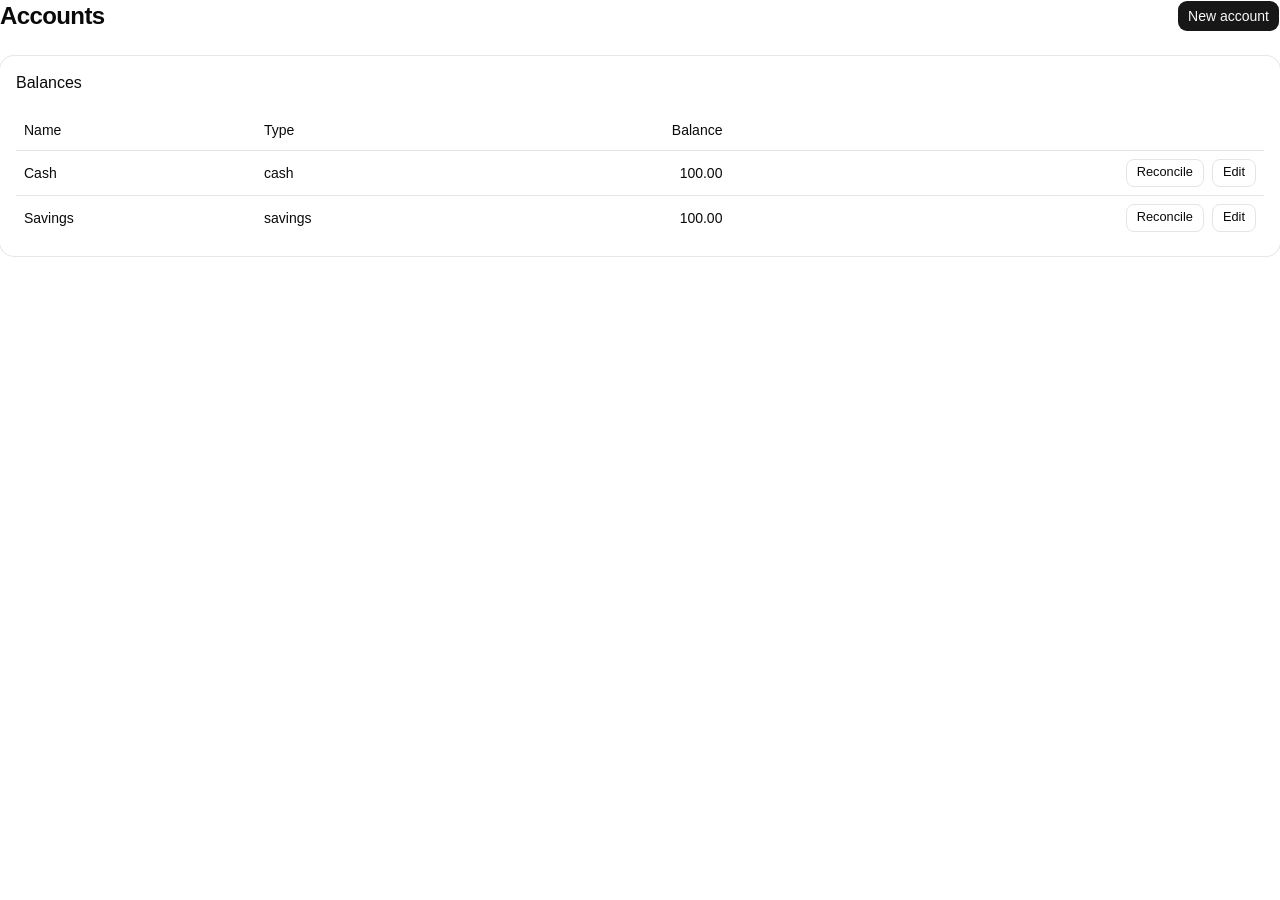
Test case: ReconcileDialog › books a transaction when actual balance differs
The width and height of the screenshot is (1280, 900).
Check: the text "Cash" is shown, box [16,150,256,195]
Click the 1st button "Reconcile" at [1165, 172], box [1126,158,1204,186]
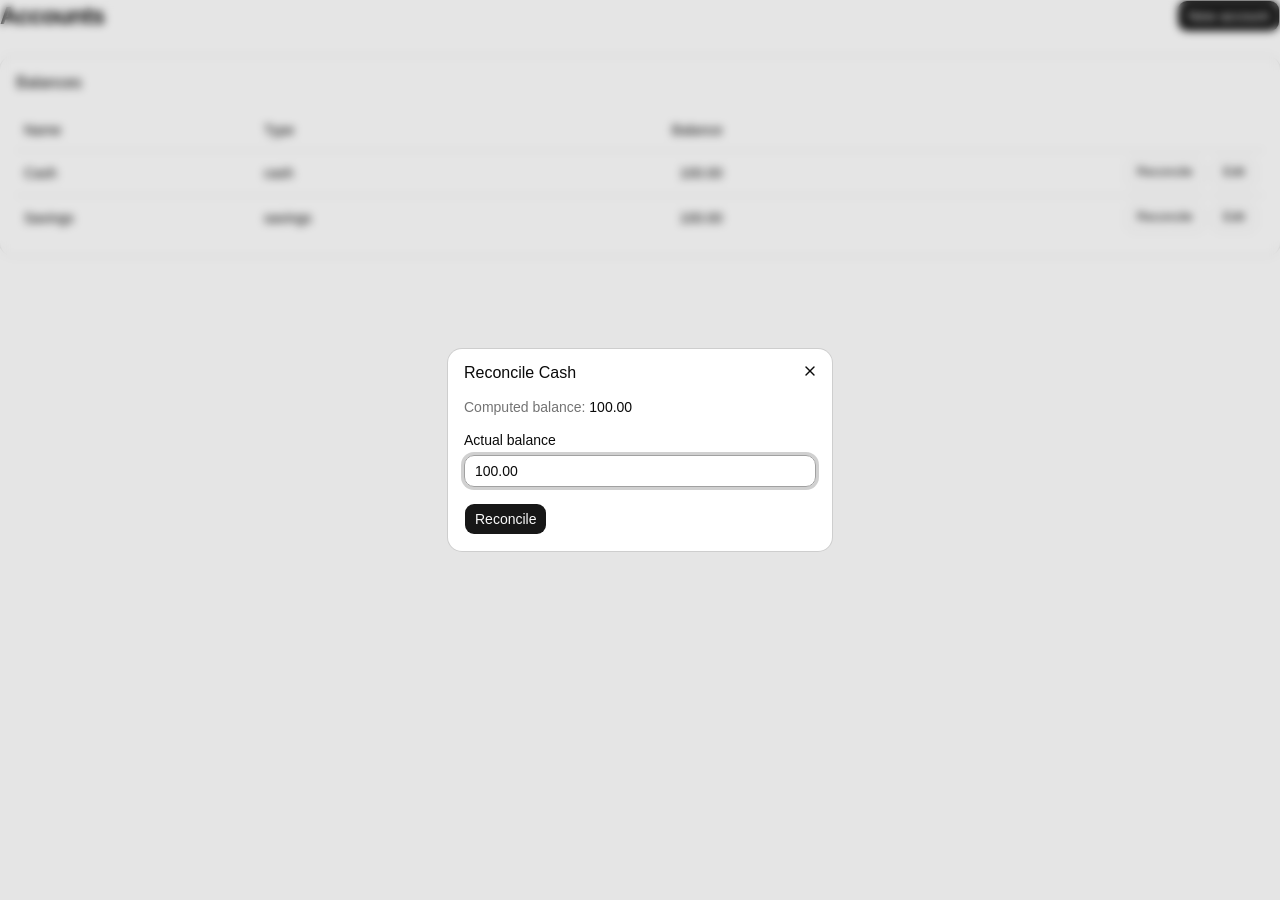
Replace the text in the field labelled "Actual balance" with "85.00" at [640, 471], box [464,455,816,487]
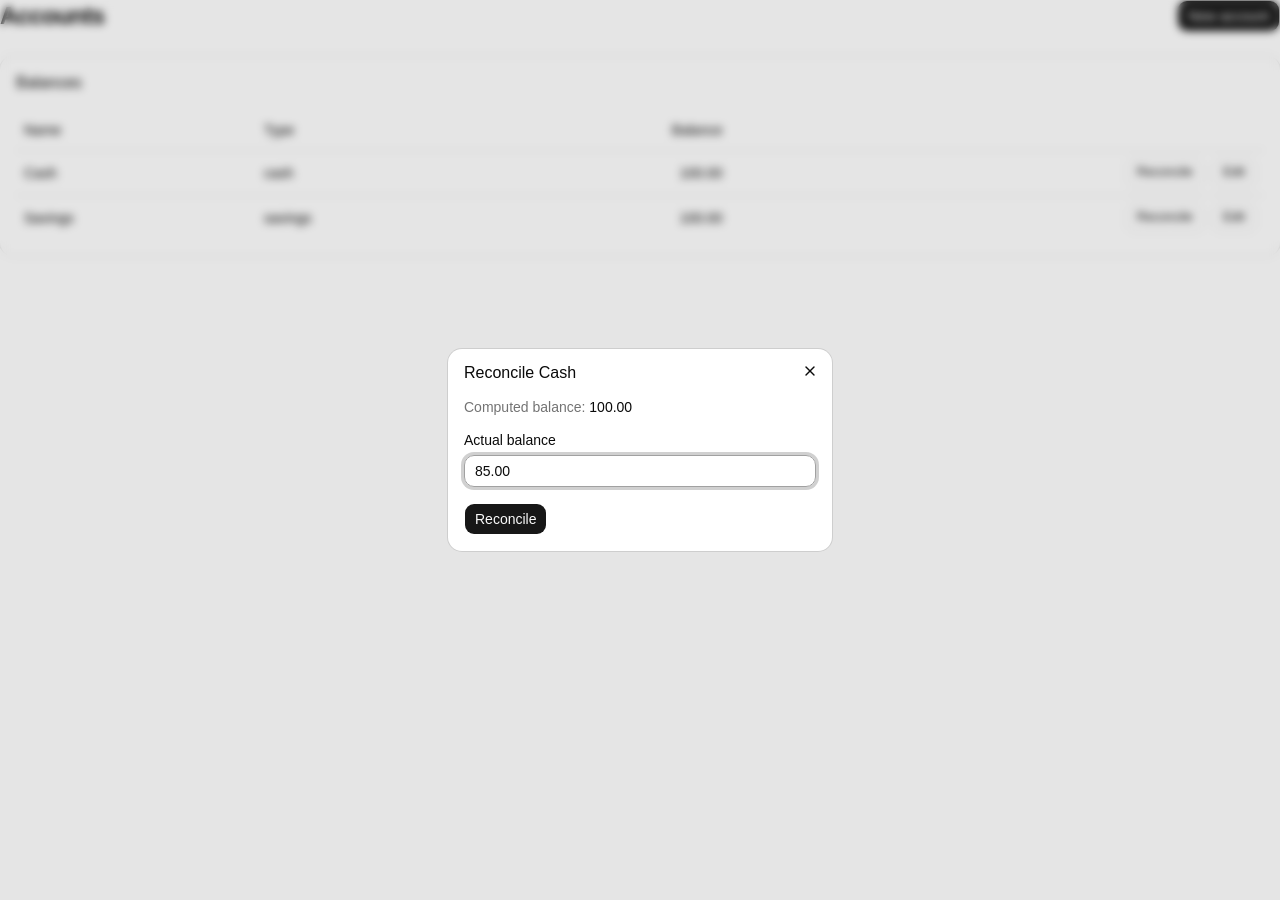
Click the button "Reconcile" at [506, 519], box [464,503,548,535]
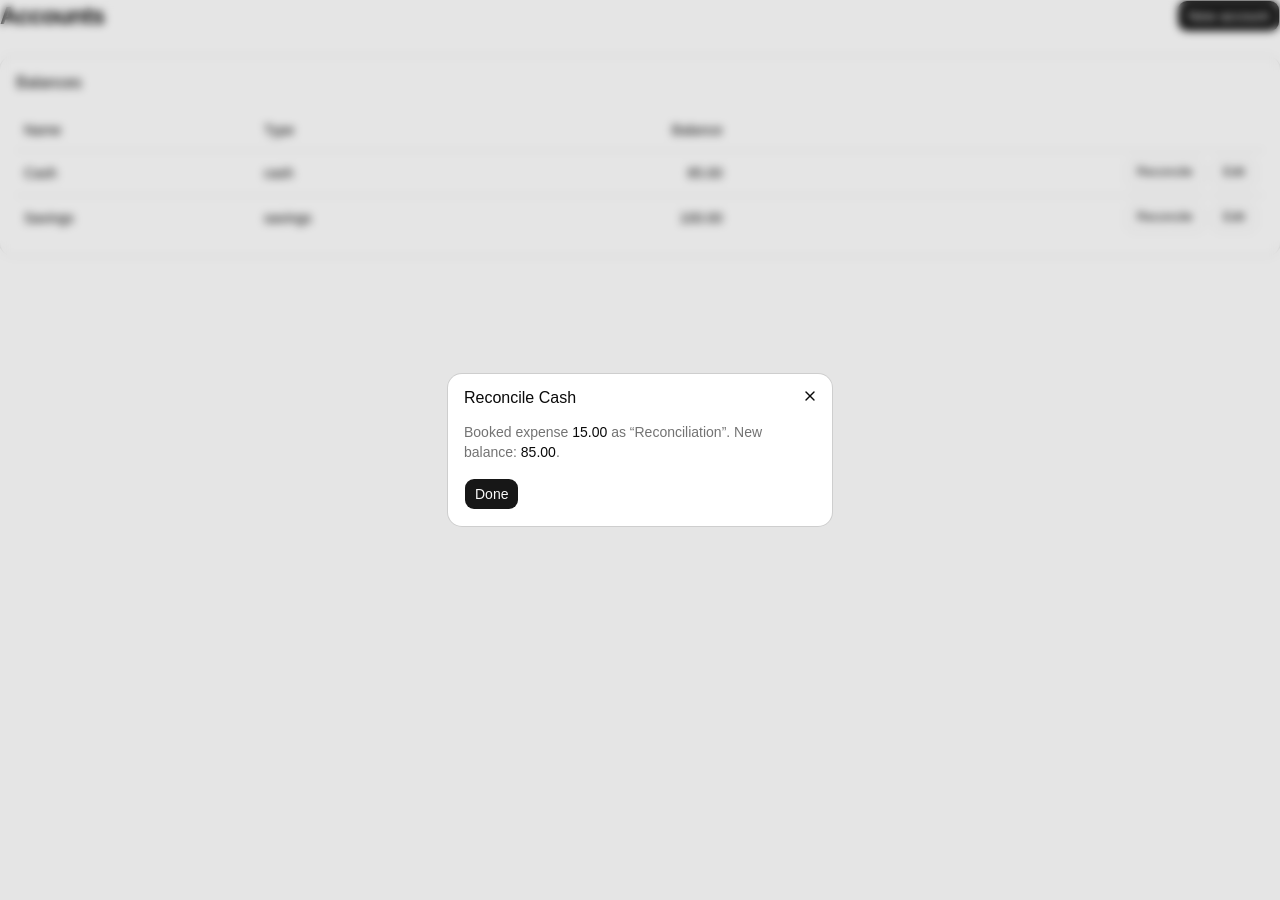
Check: the text "Reconciliation" is shown, box [634,424,722,440]
Check: the text "15.00" is shown, box [572,424,607,440]
Click the button "Done" at [492, 494], box [464,478,520,510]
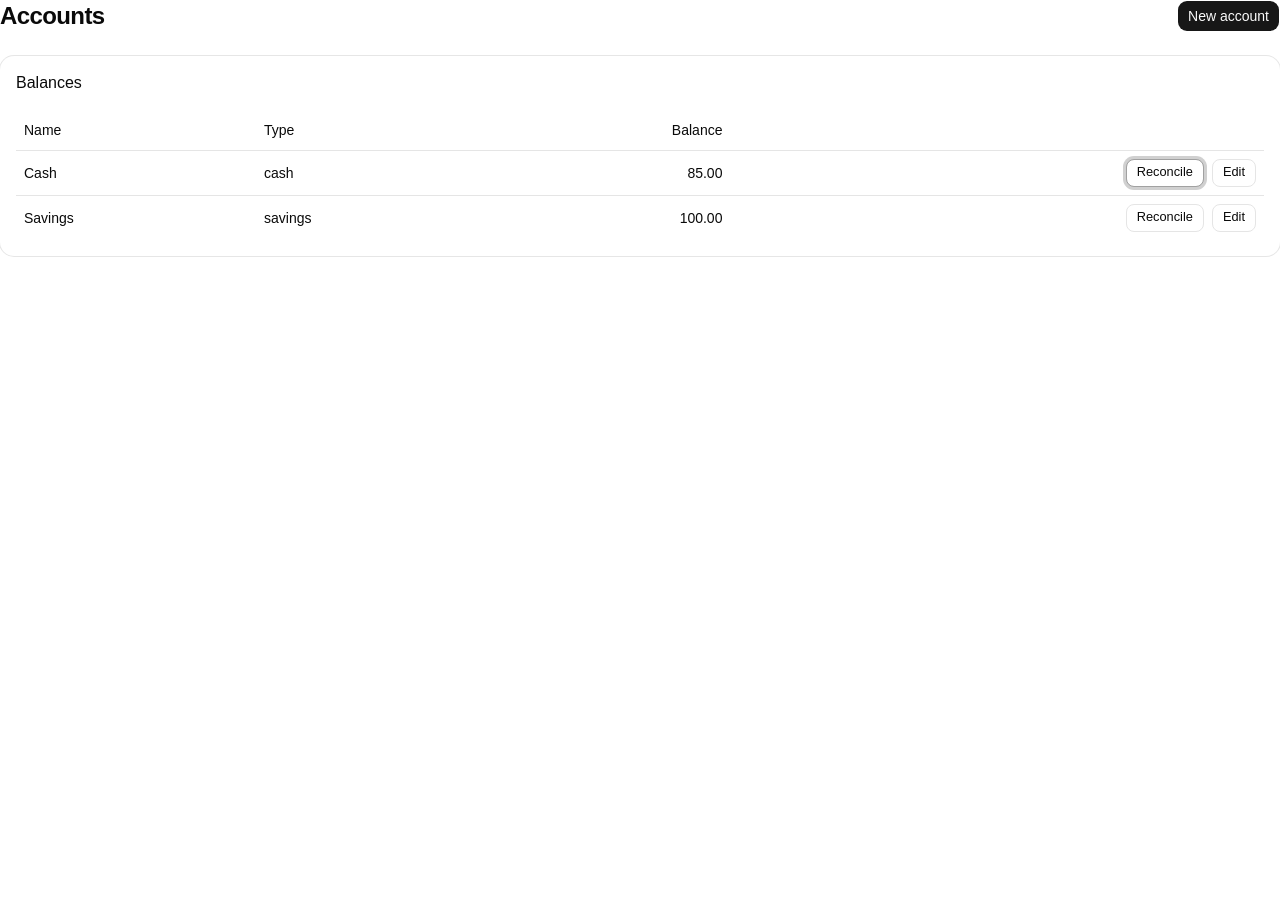
Check: the text "85.00" is shown, box [488,150,730,195]
Check: the dialog is gone
